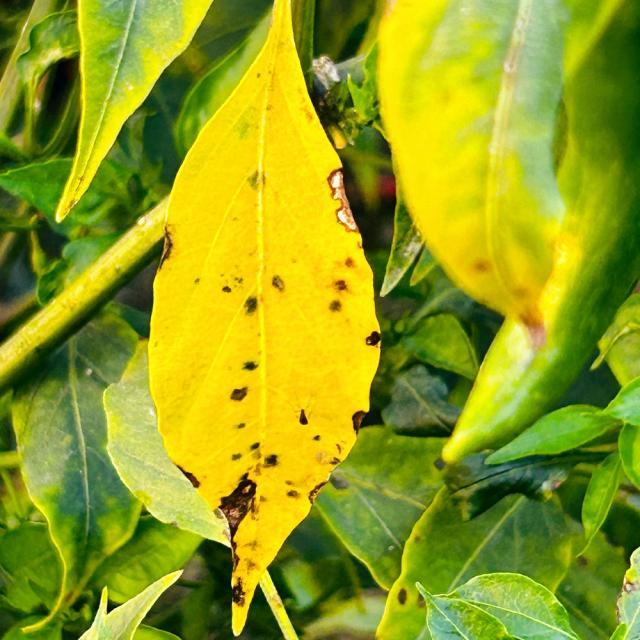Bercak Daun Serkospora: (145, 0, 382, 637)
